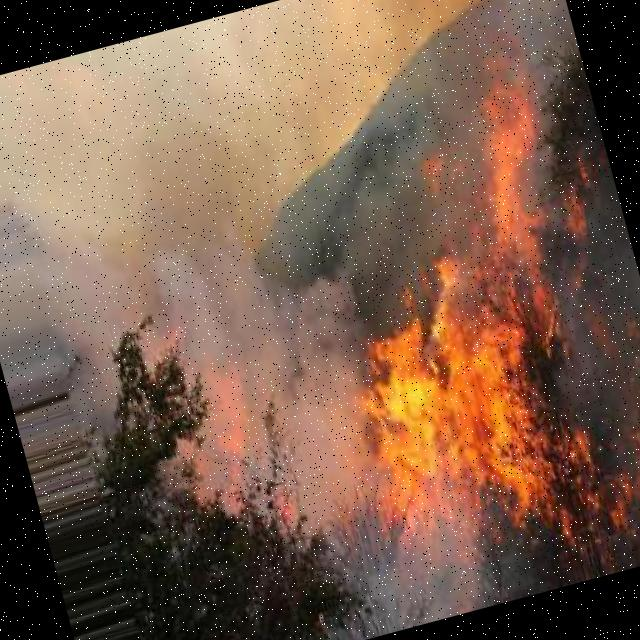fire: (240, 30, 640, 599)
